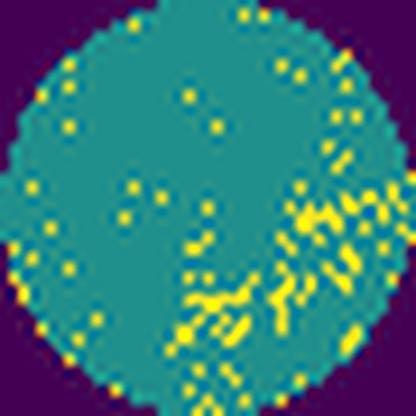Loc: (167, 276, 257, 356), (266, 256, 302, 341), (288, 200, 347, 235)
